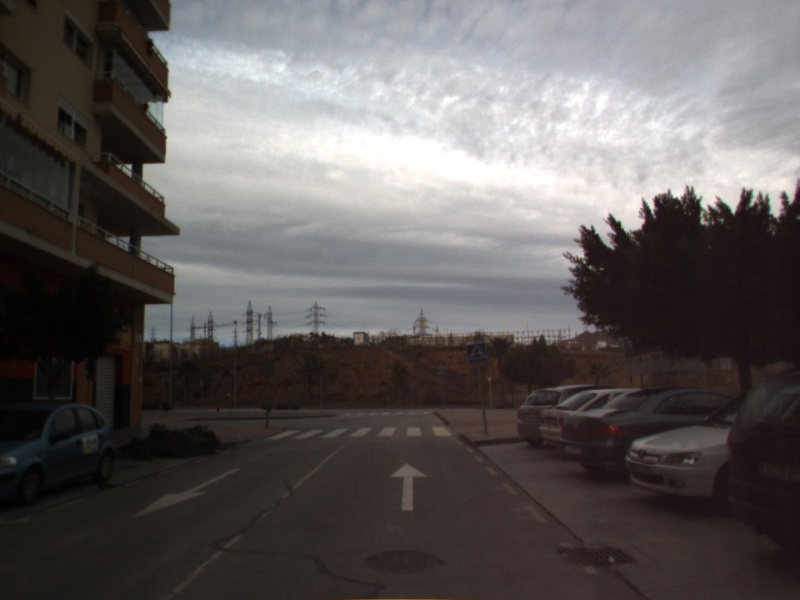STRAIGHT: (388, 461, 430, 513)
